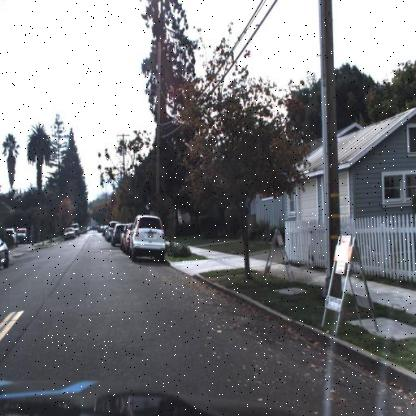car: (125, 211, 168, 266), (0, 238, 8, 274), (70, 220, 80, 236)
